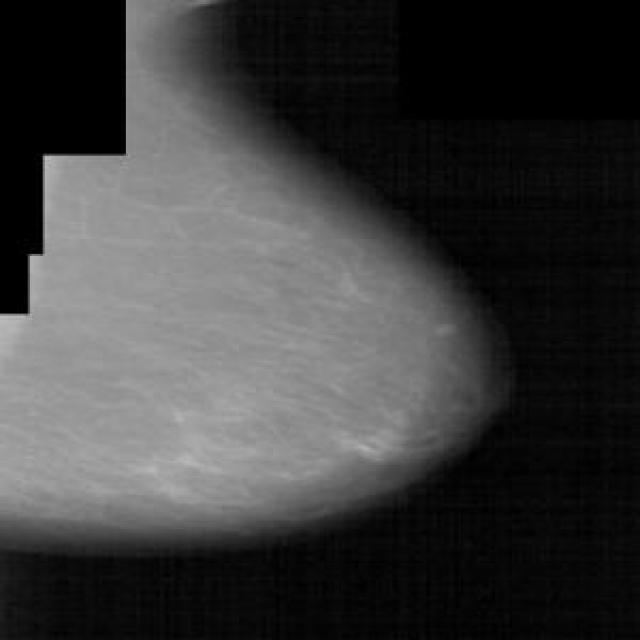tumor: (136, 392, 244, 520), (332, 402, 422, 468)
